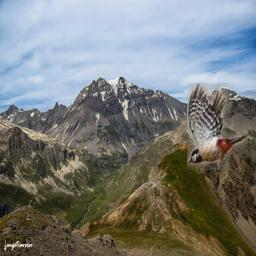Woodpecker: (187, 83, 248, 170)
